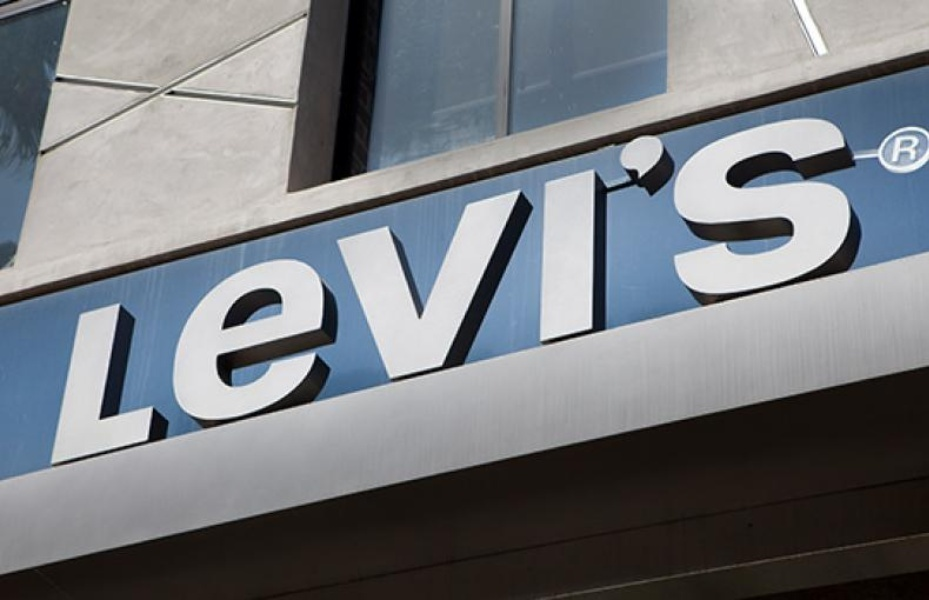text: (81, 78, 96, 472), (97, 78, 112, 472), (113, 78, 128, 472), (129, 78, 144, 472), (145, 78, 160, 472), (161, 78, 176, 472), (177, 78, 192, 472), (193, 78, 208, 472), (209, 78, 224, 472), (225, 78, 240, 472), (241, 78, 256, 472), (257, 78, 272, 472), (273, 78, 288, 472), (289, 78, 304, 472), (305, 78, 320, 472), (321, 78, 336, 472), (337, 78, 352, 472), (353, 78, 368, 472), (369, 78, 384, 472), (385, 78, 400, 472), (401, 78, 416, 472), (417, 78, 432, 472), (433, 78, 448, 472), (449, 78, 464, 472), (465, 78, 480, 472), (481, 78, 496, 472), (497, 78, 512, 472), (513, 78, 528, 472), (529, 78, 544, 472), (545, 78, 560, 472), (561, 78, 576, 472), (577, 78, 592, 472), (593, 78, 608, 472), (609, 78, 624, 472), (625, 78, 640, 472), (641, 78, 656, 472), (657, 78, 672, 472), (673, 78, 688, 472), (689, 78, 704, 472), (705, 78, 720, 472), (721, 78, 736, 472), (737, 78, 752, 472), (753, 78, 768, 472), (769, 78, 784, 472), (785, 78, 800, 472), (801, 78, 816, 472), (817, 78, 832, 472), (833, 78, 848, 472), (849, 78, 864, 472), (865, 78, 879, 472), (72, 78, 80, 472), (897, 135, 912, 168), (888, 135, 896, 168), (913, 135, 919, 168)
